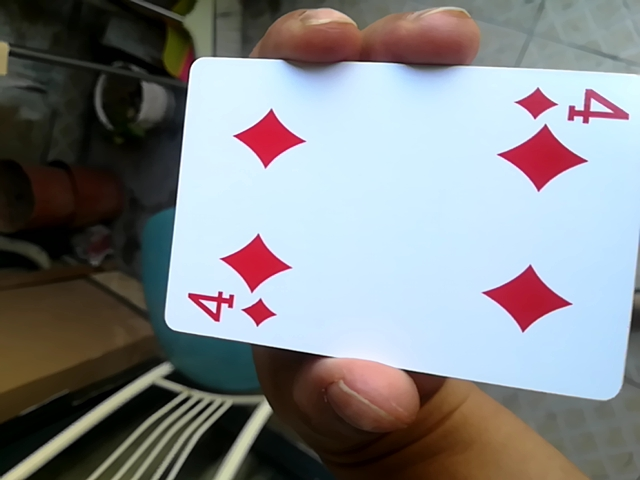fk 4: (159, 59, 640, 388)
